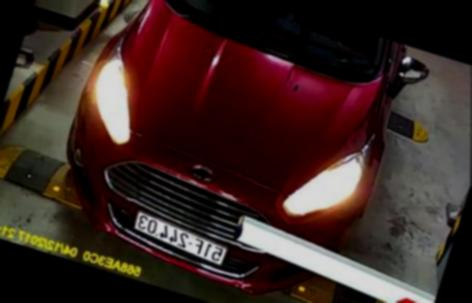License_Plate: (130, 215, 231, 268)
